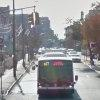Bus: (32, 52, 83, 99)
